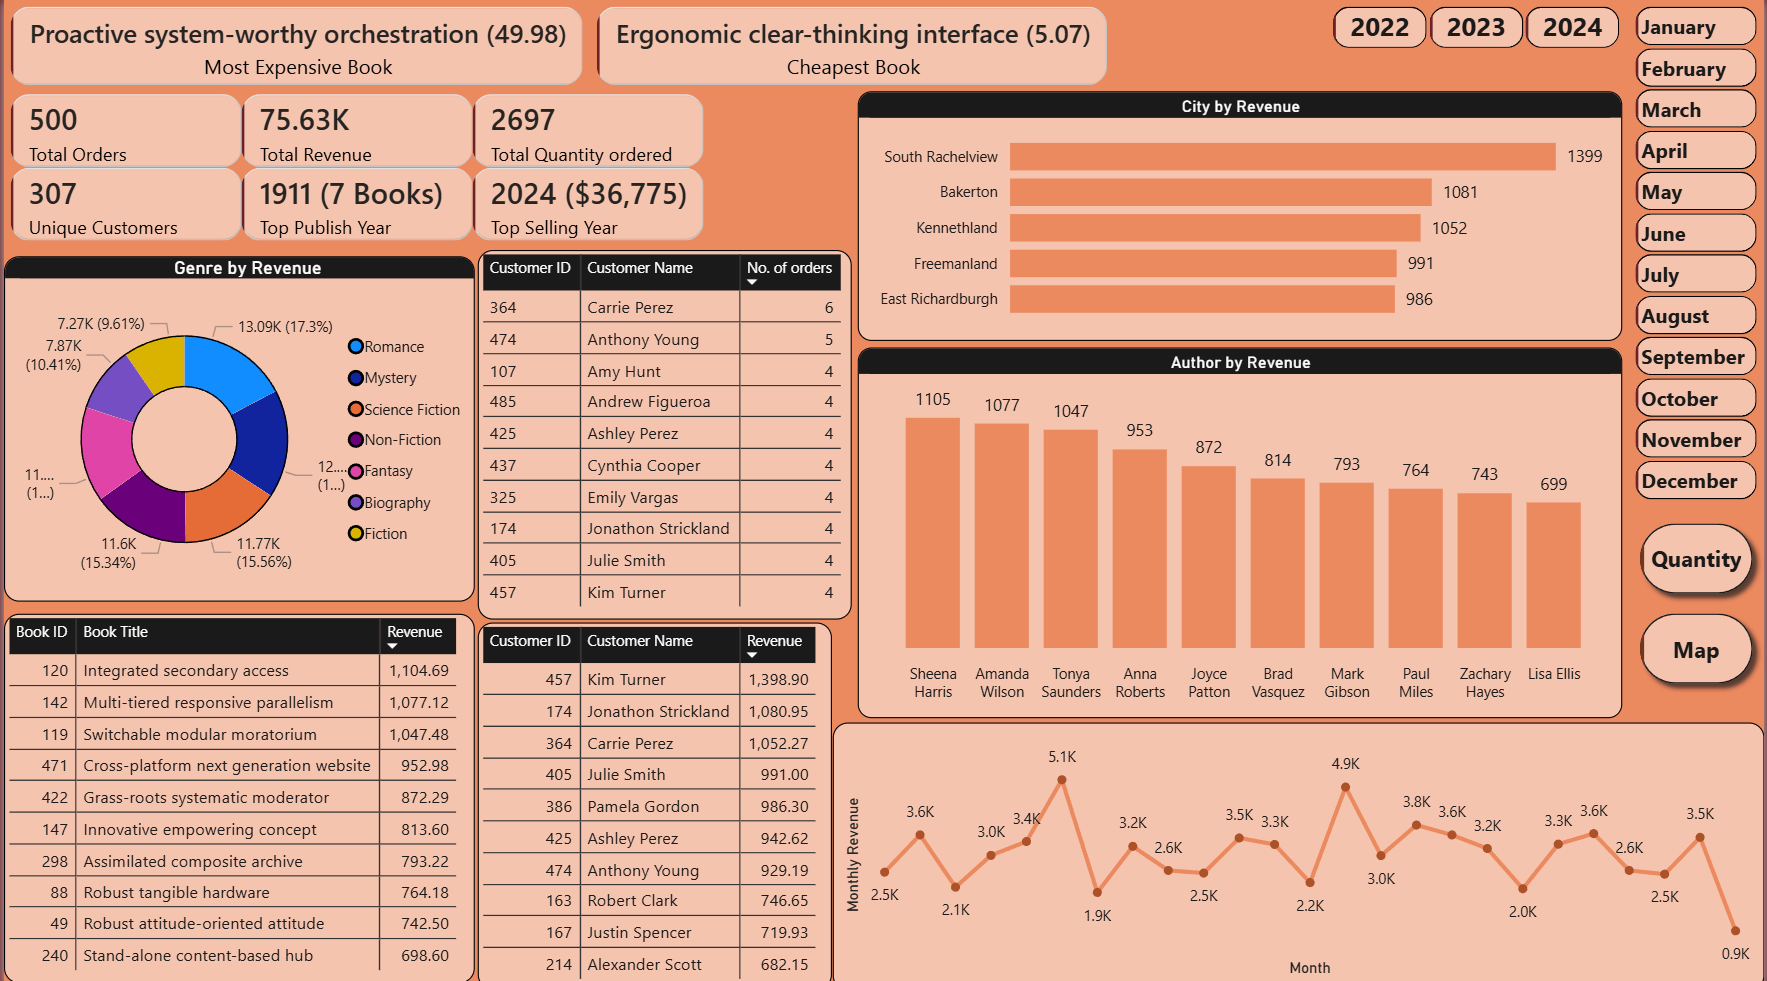

Layout of this report page (visuals, bound fields, positions):
{"tool":"powerbi","page":{"name":"Revenue","canvas":[1280,720],"ordinal":0},"visuals":[{"type":"cardVisual","fields":{"Data":["Sum(public all_kpi.total_orders)","Sum(public all_kpi.total_revenue)","Sum(public all_kpi.total_quantity_ordered)","Sum(public all_kpi.total_customers)","public all_kpi.Top Publish Year","public all_kpi.Top Selling Year"]},"box":[0,63.8,515.3,117.8],"z":0},{"type":"cardVisual","fields":{"Data":["public all_kpi.Most Expensive Book (With Price)"]},"box":[0,0,426.7,67.2],"z":1000},{"type":"cardVisual","fields":{"Data":["public all_kpi.Cheapest Book"]},"box":[426.7,0,381.9,67.2],"z":2000},{"type":"columnChart","title":"Author by Revenue","fields":{"Category":["public book_store.author"],"Y":["Sum(public book_store.total_amount)"]},"box":[620.9,252.8,555.8,269.9],"z":3000},{"type":"pieChart","title":"Genre by Revenue","fields":{"Category":["public book_store.genre"],"Y":["Sum(public book_store.total_amount)"]},"box":[0,186.5,342.3,251.5],"z":4000},{"type":"clusteredBarChart","title":"City by Revenue","fields":{"Category":["public book_store.city"],"Y":["Sum(public book_store.total_amount)"]},"box":[620.9,66.3,556,181.6],"z":5000},{"type":"advancedSlicerVisual","fields":{"Values":["Date.Year"]},"box":[962,0,219.6,40],"z":6000},{"type":"advancedSlicerVisual","fields":{"Values":["Date.Month Name"]},"box":[1181.6,0,98.2,373],"z":7000},{"type":"lineChart","fields":{"Y":["Sum(public monthly_sales.monthly_revenue)"],"Category":["Date.Year-Month"]},"box":[602.5,525.2,677.3,195.1],"z":8000},{"type":"tableEx","fields":{"Values":["public book_store.customer_id","public book_store.customer_name","Count(public book_store.order_id)"]},"box":[344.8,181.6,272.4,268.7],"z":9000},{"type":"tableEx","fields":{"Values":["public book_store.customer_id","public book_store.customer_name","Sum(public book_store.total_amount)"]},"box":[344.8,452.5,257.7,267.5],"z":10000},{"type":"tableEx","fields":{"Values":["public book_store.book_id","public book_store.book_title","Sum(public book_store.total_amount)"]},"box":[0,446.6,342.3,268.7],"z":11000},{"type":"pageNavigator","box":[1181.6,373,98.2,67.5],"z":11001},{"type":"pageNavigator","box":[1181.6,438,98.2,67.5],"z":11002}]}

Visuals, with their boxes in screenshot pixels (x1, y1, x2, y2), scaled from the page's 1280x720 canvas onto the 1767x981 screenshot:
cardVisual - Sum(public all_kpi.total_orders) x Sum(public all_kpi.total_revenue): region(0, 87, 711, 247)
cardVisual - public all_kpi.Most Expensive Book (With Price): region(0, 0, 589, 92)
cardVisual - public all_kpi.Cheapest Book: region(589, 0, 1116, 92)
"Author by Revenue" columnChart: region(857, 344, 1624, 712)
"Genre by Revenue" pieChart: region(0, 254, 473, 597)
"City by Revenue" clusteredBarChart: region(857, 90, 1625, 338)
advancedSlicerVisual - Date.Year: region(1328, 0, 1631, 54)
advancedSlicerVisual - Date.Month Name: region(1631, 0, 1766, 508)
lineChart - Sum(public monthly_sales.monthly_revenue) x Date.Year-Month: region(832, 716, 1766, 980)
tableEx - public book_store.customer_id x public book_store.customer_name: region(476, 247, 852, 614)
tableEx - public book_store.customer_id x public book_store.customer_name: region(476, 617, 832, 980)
tableEx - public book_store.book_id x public book_store.book_title: region(0, 608, 473, 975)
pageNavigator: region(1631, 508, 1766, 600)
pageNavigator: region(1631, 597, 1766, 689)
